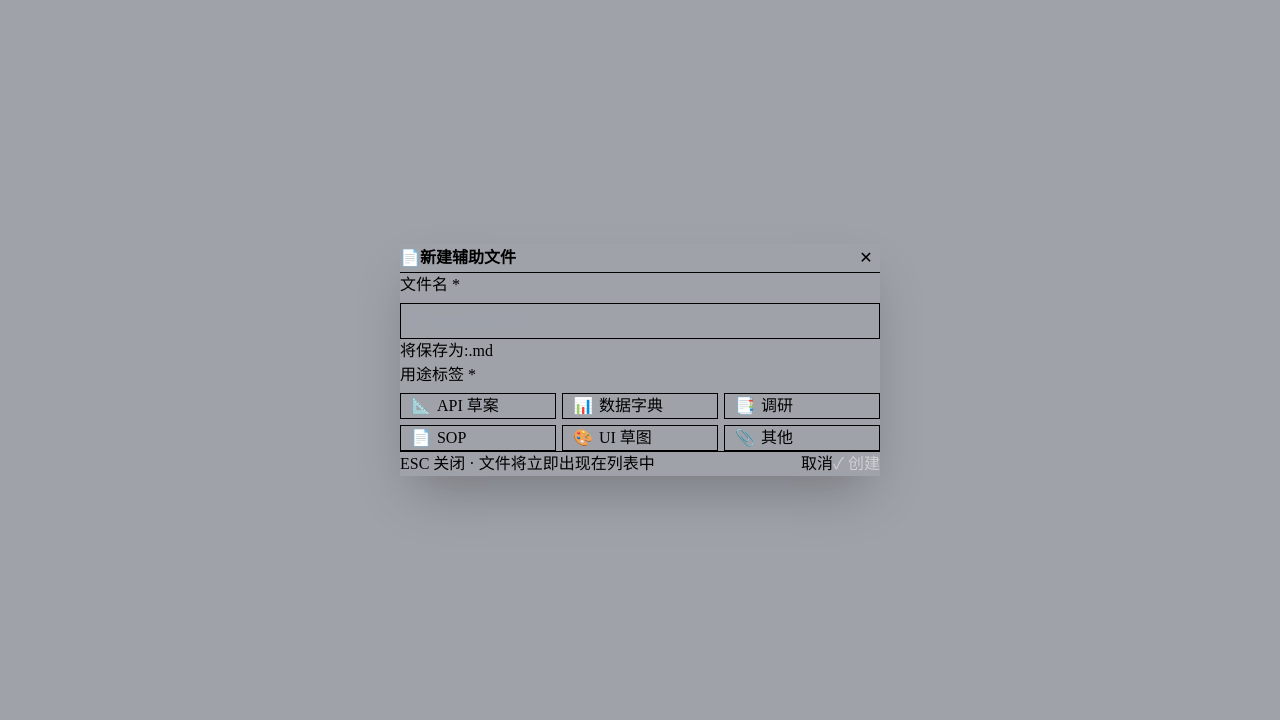
NewAuxFileDialog · filename 自动补 .md › 输入无扩展名 → preview 显示带 .md 的最终文件名
Type "refund-api" into the field with test id "new-aux-dialog-filename".
click(640, 321); type("refund-api")  # box left=400, top=303, right=880, bottom=339
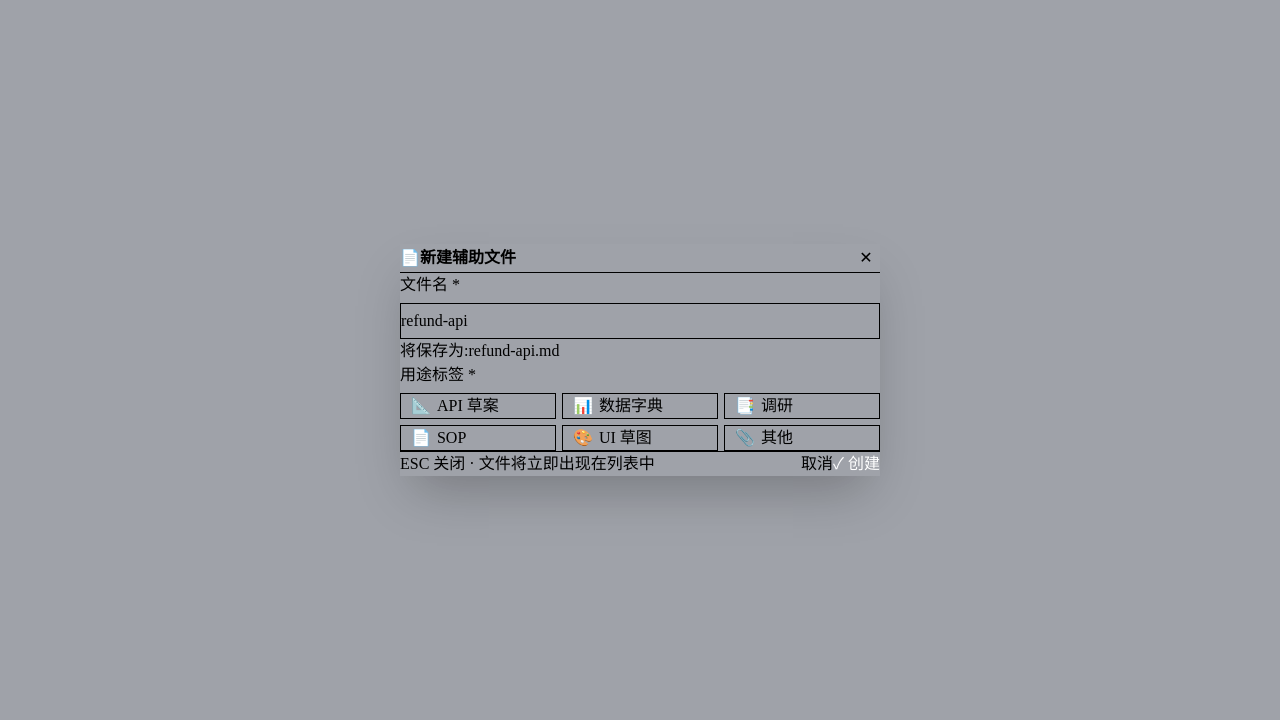
expect the element with test id "new-aux-dialog-filename-preview" shows "refund-api.md": met, box left=468, top=342, right=560, bottom=359
